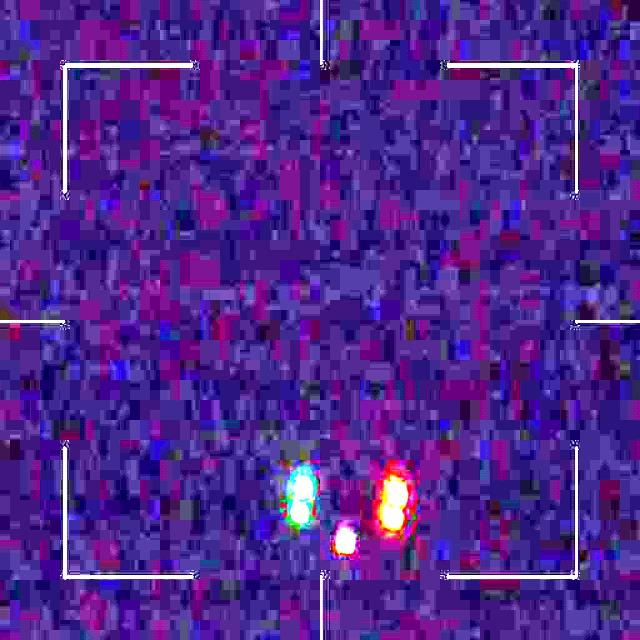bird: (289, 469, 405, 555)
